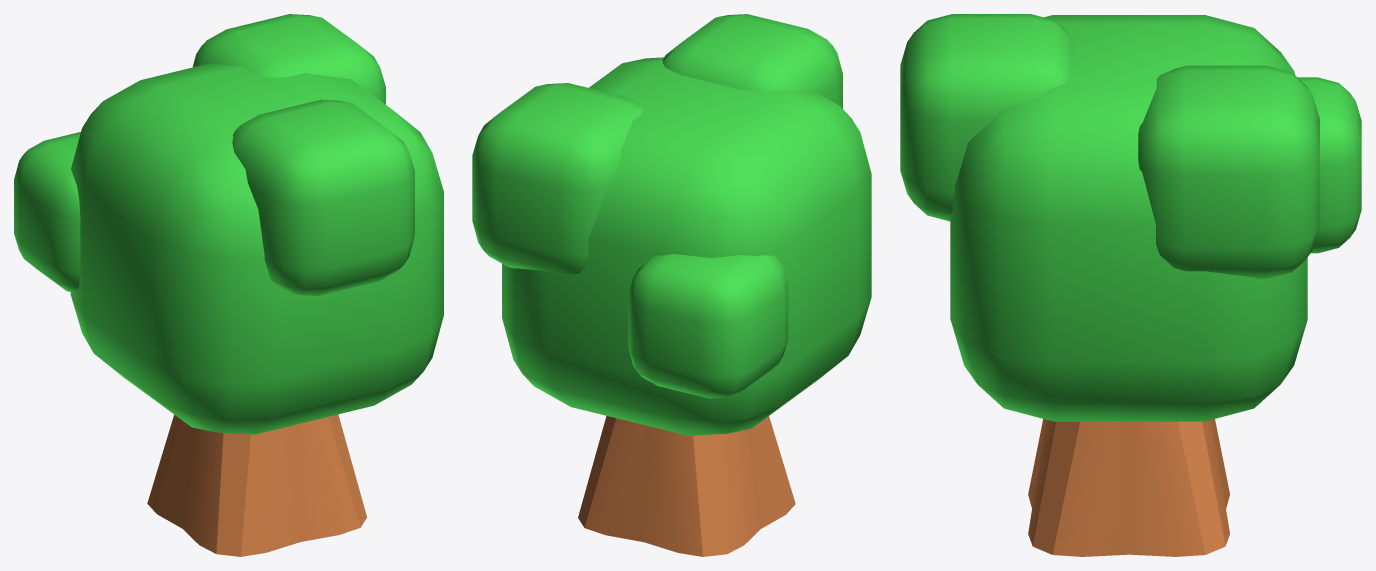
The model's file is Tree002.fbx.
The picture shows the model from 3 angles, left to right: view 1: azimuth 30°, elevation 25°; view 2: azimuth 150°, elevation 25°; view 3: azimuth 270°, elevation 25°; orthographic projection. The views are drawn at different scales.
Visible parts, largest first — view 1: Tree002; view 2: Tree002; view 3: Tree002.
Part boxes in pixels (bbox=[...]): Tree002: bbox=[14, 14, 443, 556]; Tree002: bbox=[472, 14, 871, 556]; Tree002: bbox=[900, 14, 1361, 556].
Size of the model in its own units: 447 by 615 by 537.
